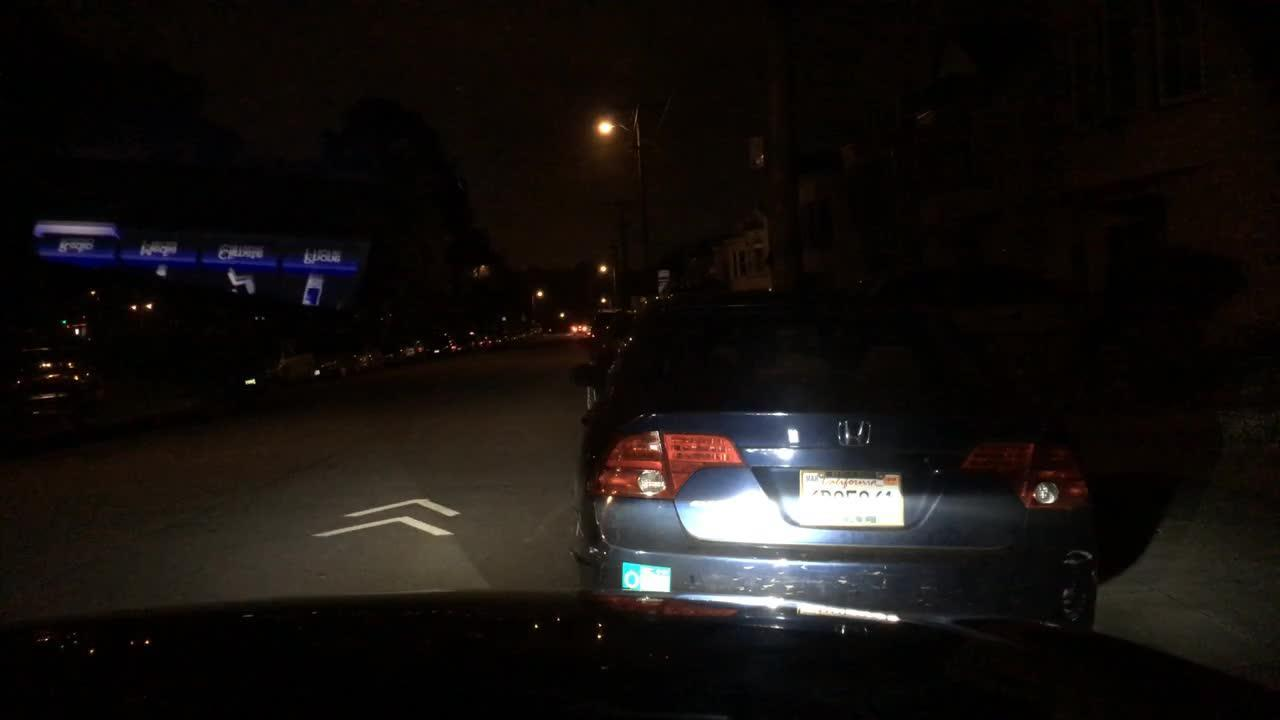Honda: (828, 405, 887, 457)
